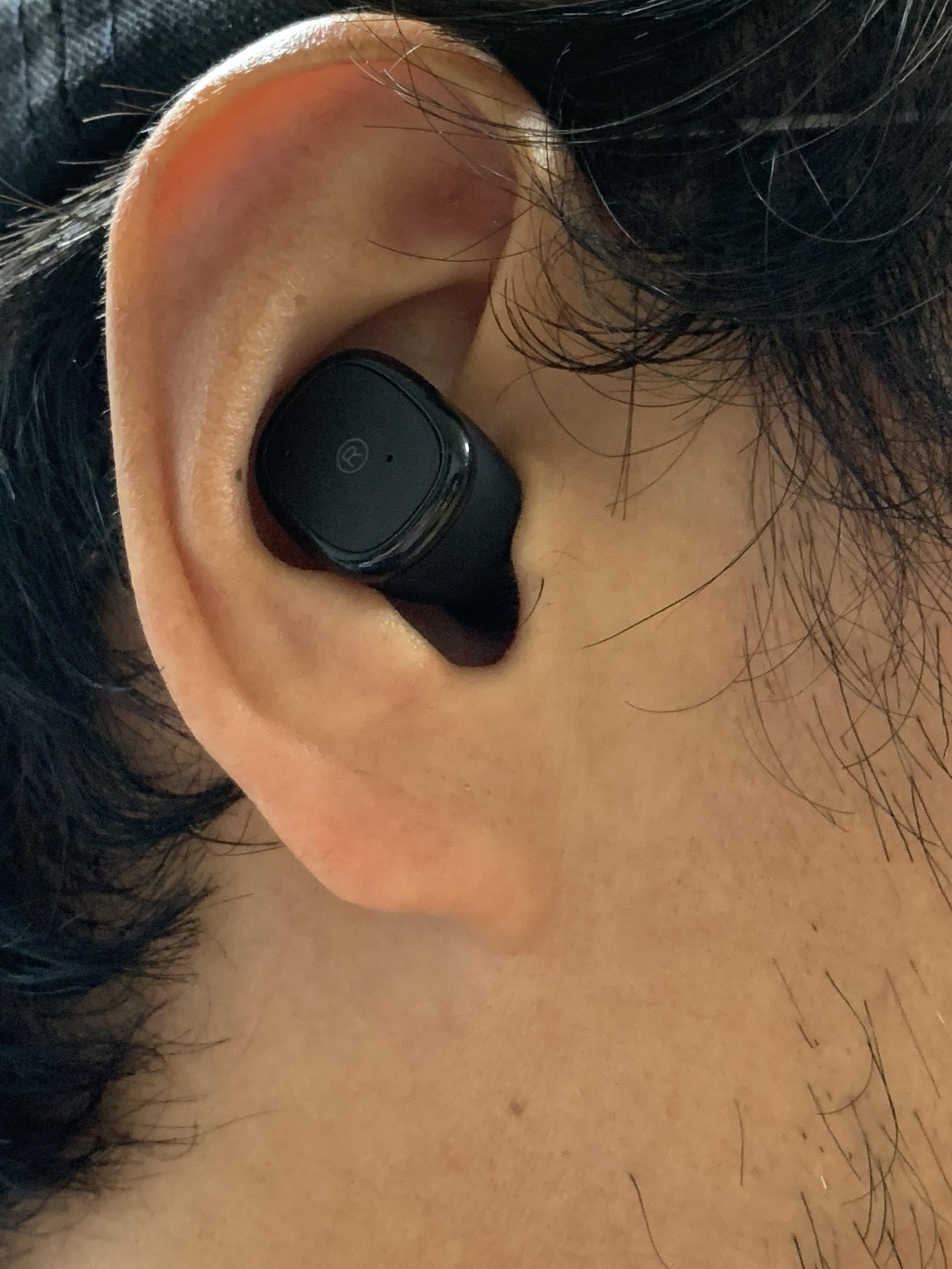earphone: (238, 321, 558, 696)
